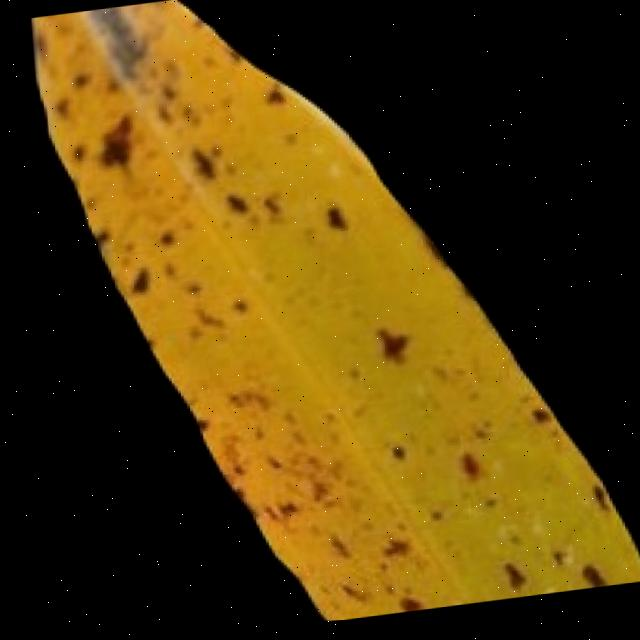mite: (491, 546, 616, 606), (590, 492, 614, 521)
spots: (27, 0, 640, 637)
